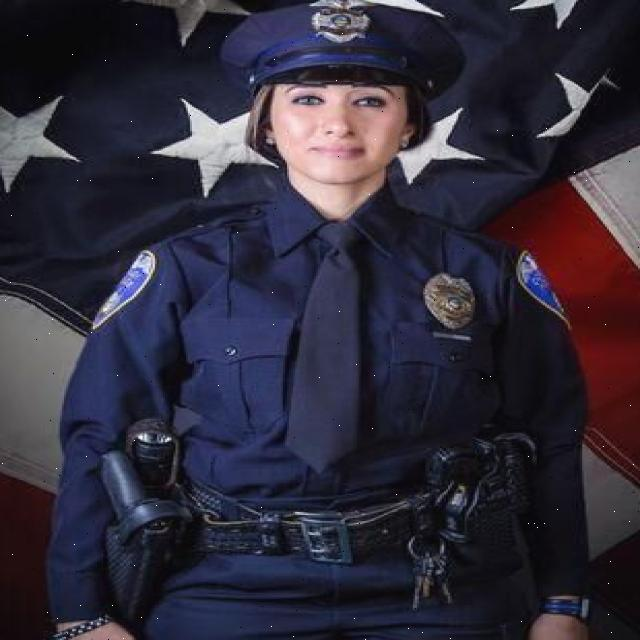police: (47, 0, 607, 640)
